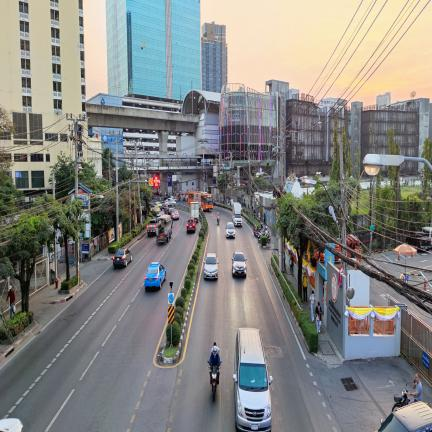bus: (188, 191, 213, 211)
car: (376, 401, 432, 432), (203, 253, 219, 280), (232, 250, 247, 277), (113, 248, 132, 268), (0, 418, 23, 432), (226, 222, 235, 238), (186, 219, 196, 233), (166, 203, 175, 214), (171, 209, 179, 219), (158, 209, 165, 216)
human: (407, 373, 422, 403), (209, 345, 220, 385), (6, 285, 15, 319), (315, 301, 322, 333), (302, 270, 307, 302), (310, 290, 315, 322), (289, 252, 294, 275), (216, 370, 219, 384)
motorbike: (392, 384, 410, 412), (210, 362, 221, 402), (267, 232, 271, 244), (217, 216, 220, 225), (208, 361, 210, 365)
pickup: (146, 219, 156, 236)
taxi: (144, 262, 166, 290)
truck: (156, 215, 172, 244), (232, 202, 242, 226), (190, 201, 200, 220)
van: (233, 328, 272, 432)
